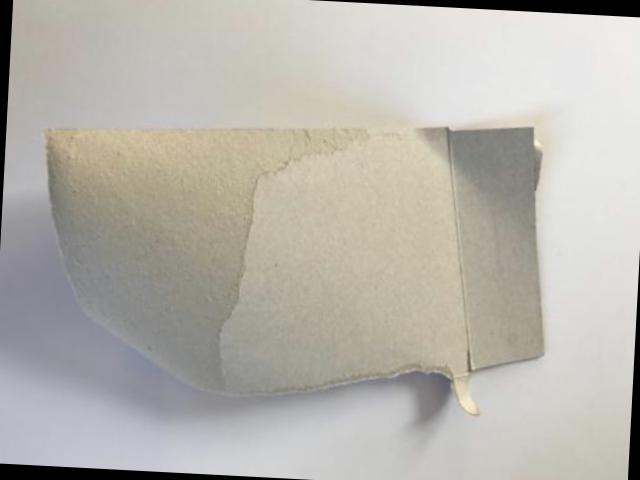cardboard paper: (47, 125, 543, 411)
